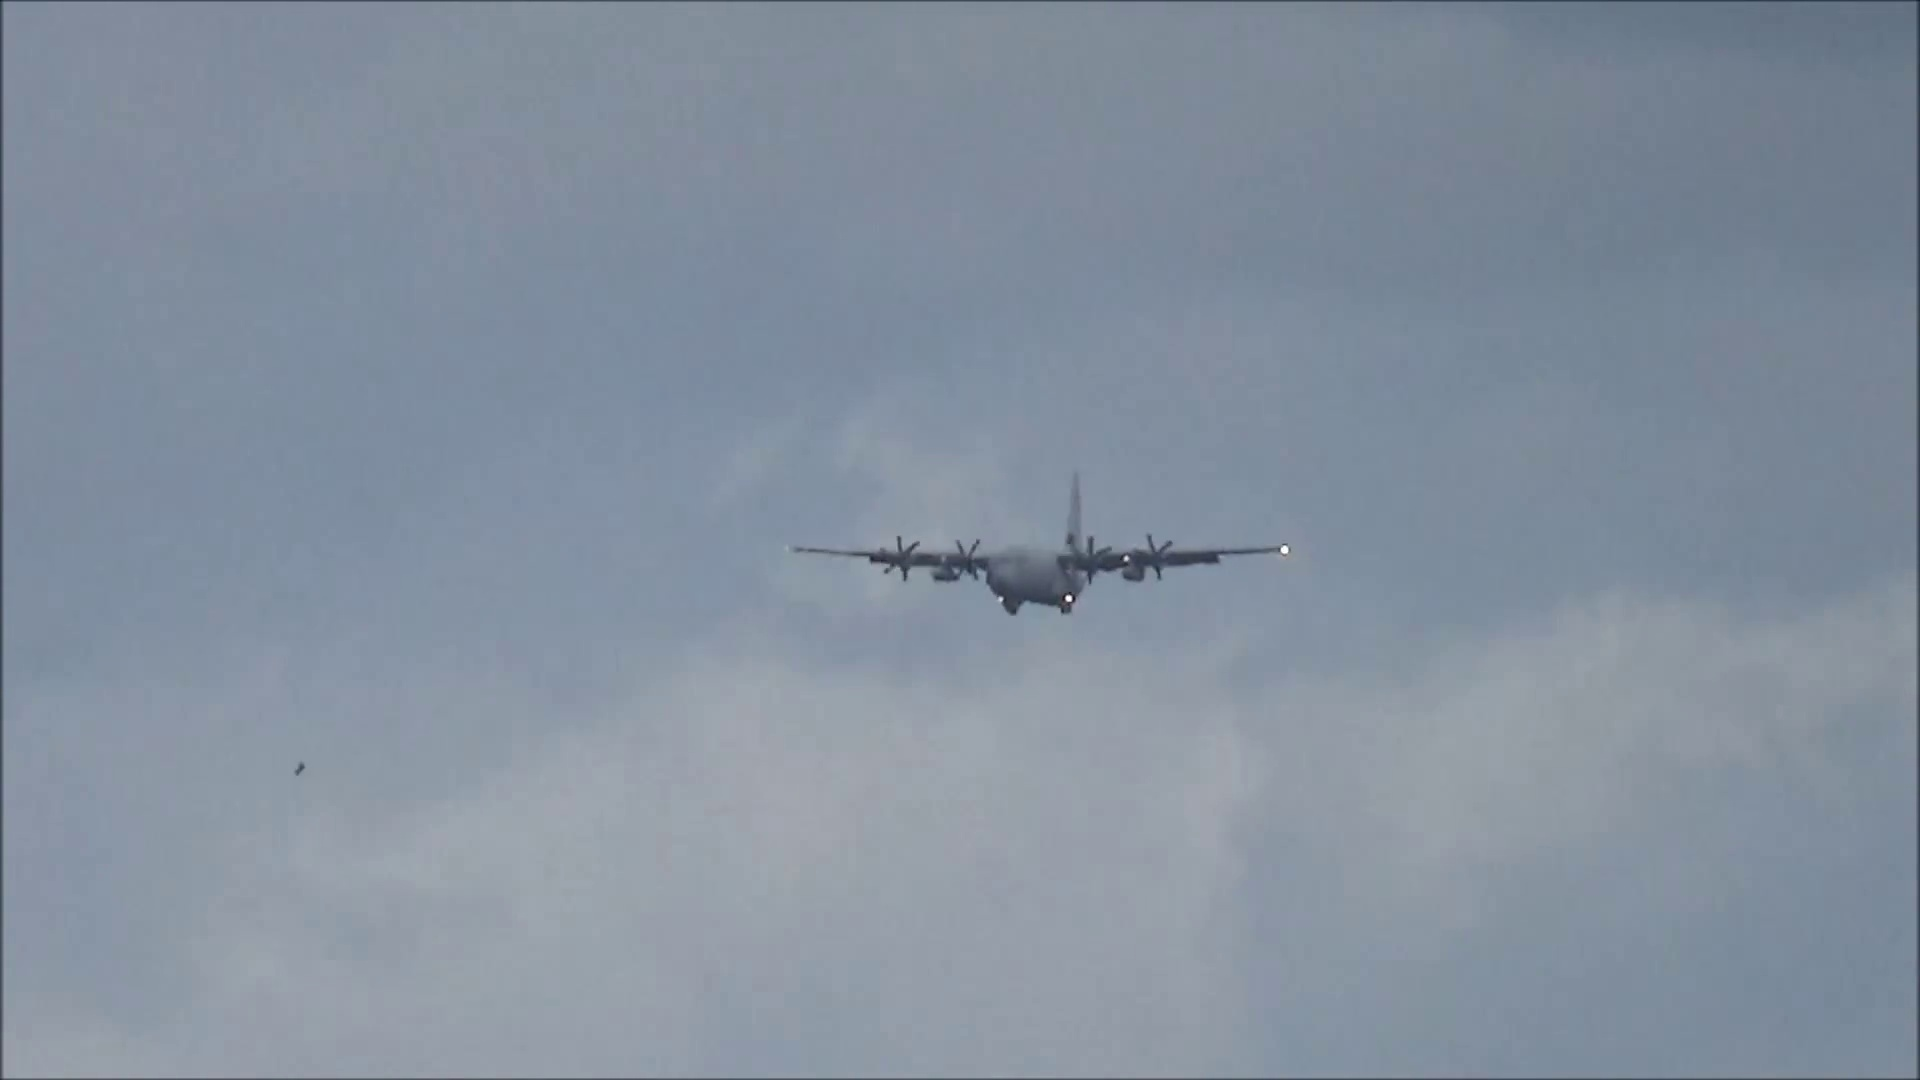Airplane: (800, 475, 1296, 608)
